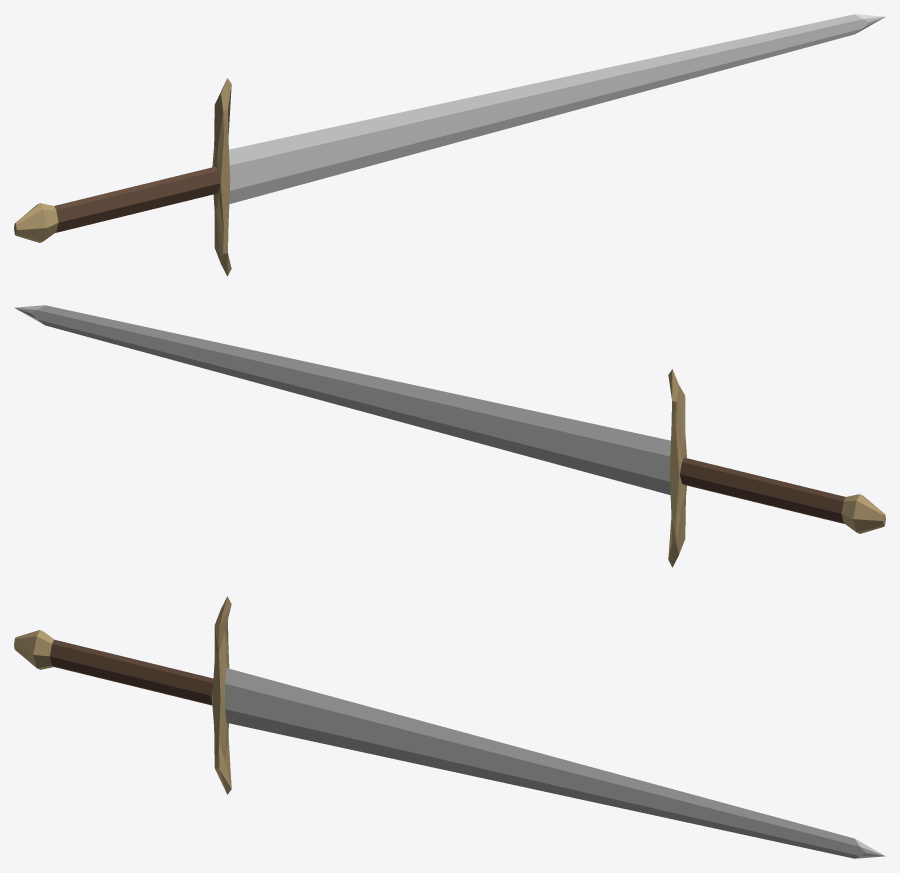
File: Longsword Model.fbx
3 renders of one model, top to bottom at view 1: azimuth 30°, elevation 25°; view 2: azimuth 150°, elevation 25°; view 3: azimuth 330°, elevation 25°, orthographic.
Visible parts, largest first — view 1: Sword; view 2: Sword; view 3: Sword.
Boxes of the visible parts, bbox=[...] form: Sword: bbox=[14, 14, 885, 276]; Sword: bbox=[14, 305, 885, 567]; Sword: bbox=[14, 596, 885, 858].
Bounding box in the file's own units: 0.8972 × 7.25 × 33.23.
